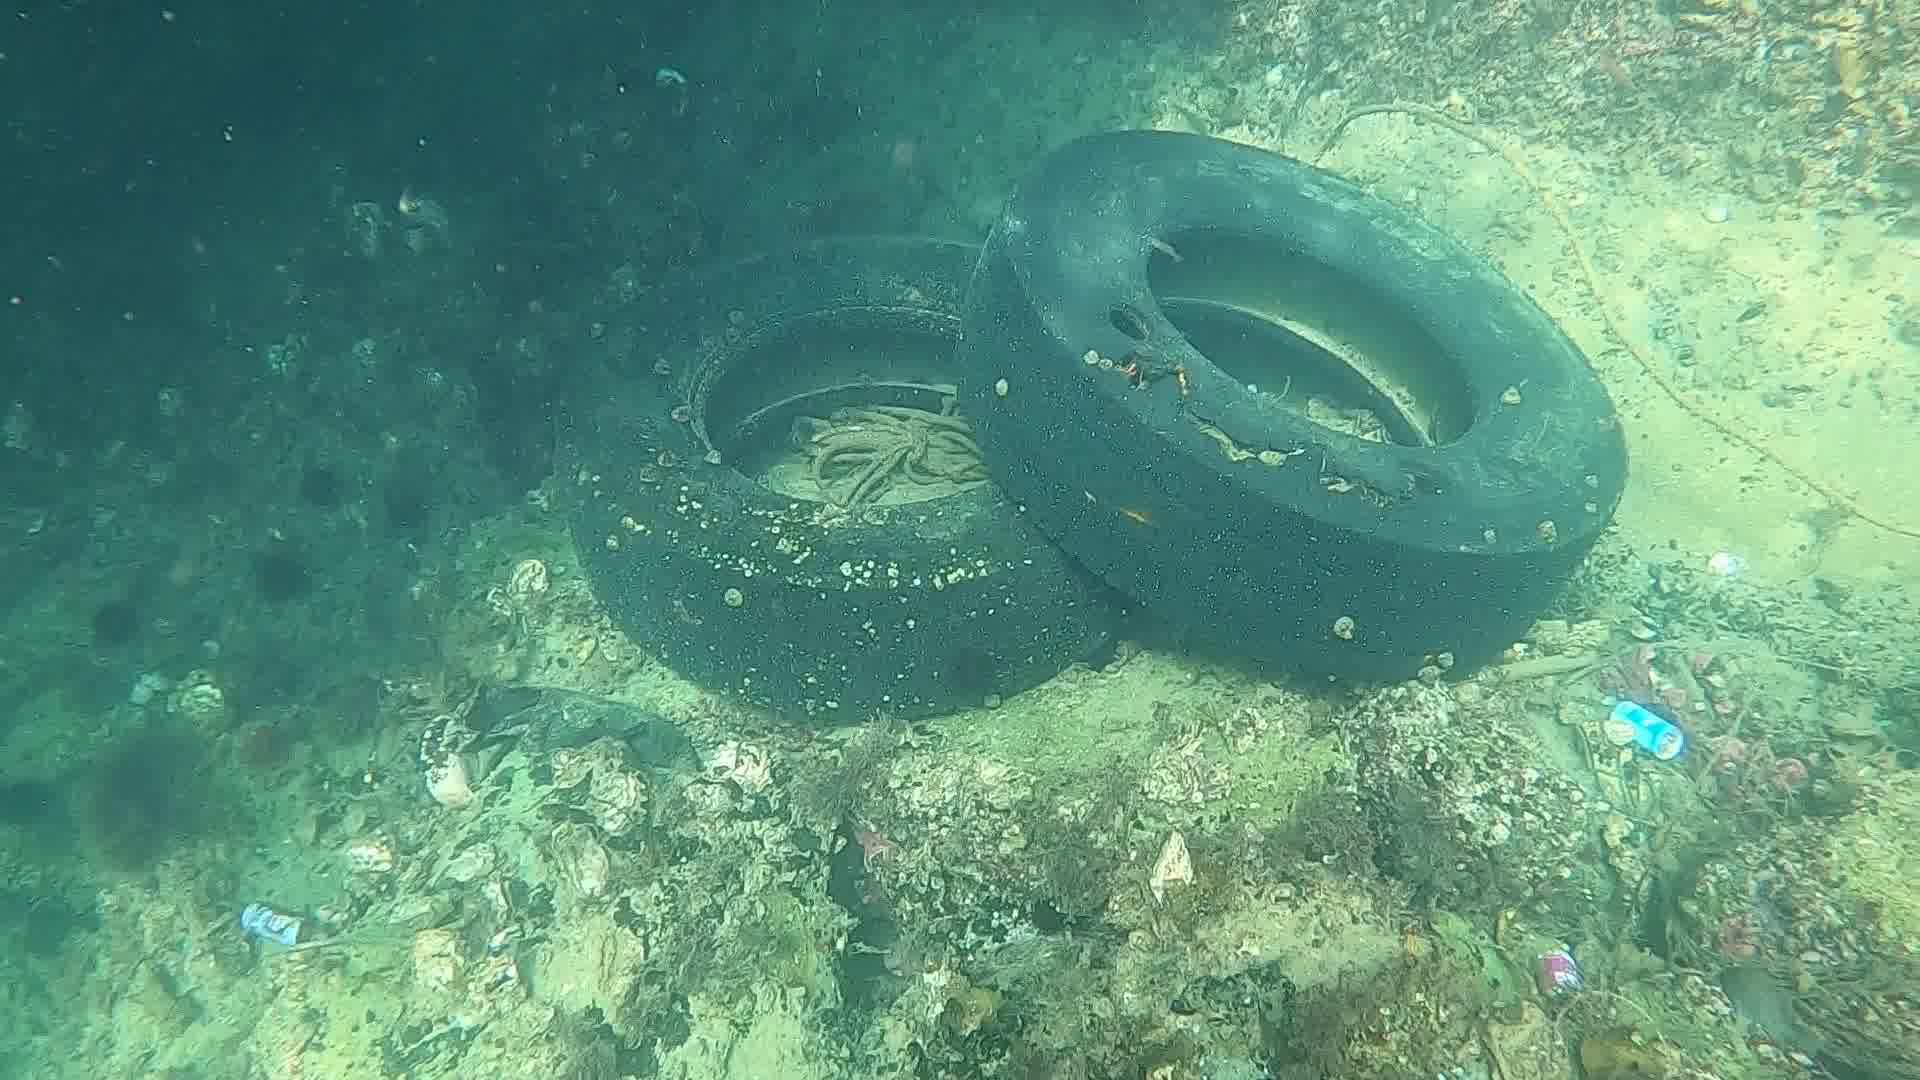bundle of ropes: (793, 396, 986, 508)
rope: (1309, 102, 1920, 545)
tire: (953, 129, 1630, 679), (564, 229, 1174, 723)
